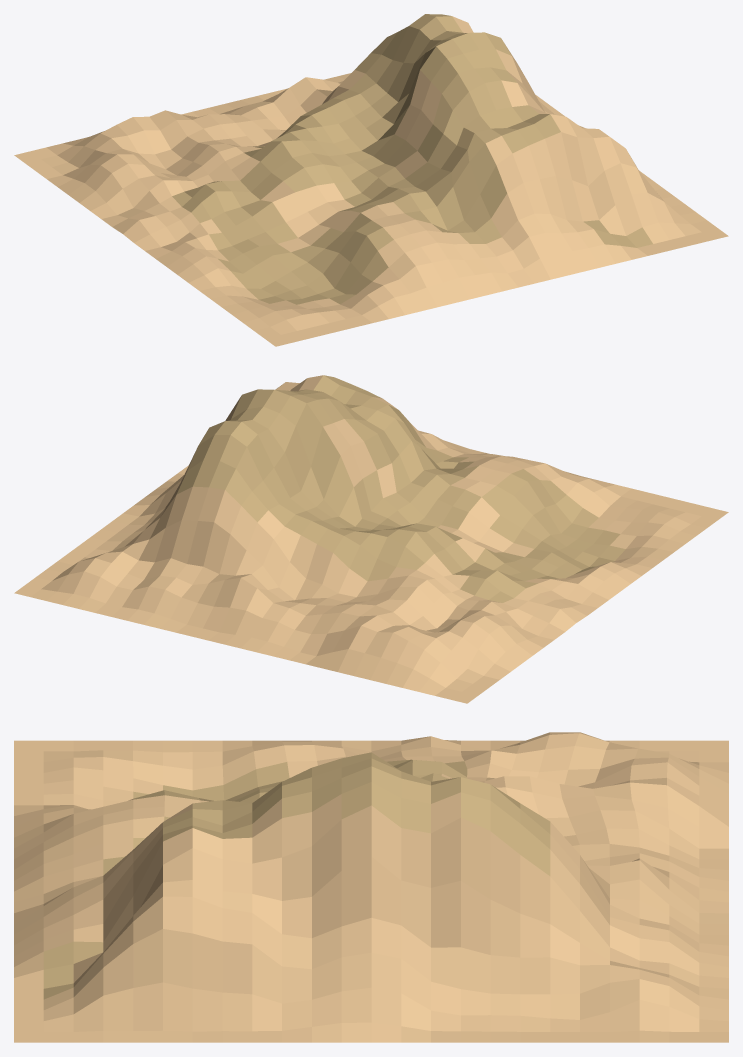
Rendered from Large_Land_006.fbx.
3 views of the same model, one above another, from view 1: azimuth 30°, elevation 25°; view 2: azimuth 150°, elevation 25°; view 3: azimuth 270°, elevation 25° (orthographic). The views are drawn at different scales.
Visible parts, largest first — view 1: Large_Land.006; view 2: Large_Land.006; view 3: Large_Land.006.
Part boxes in pixels (left/top/right/bottom): Large_Land.006: left=14, top=14, right=728, bottom=346; Large_Land.006: left=14, top=375, right=728, bottom=703; Large_Land.006: left=14, top=732, right=728, bottom=1042.
Bounding box in the file's own units: 16000 × 5154 × 16000.
